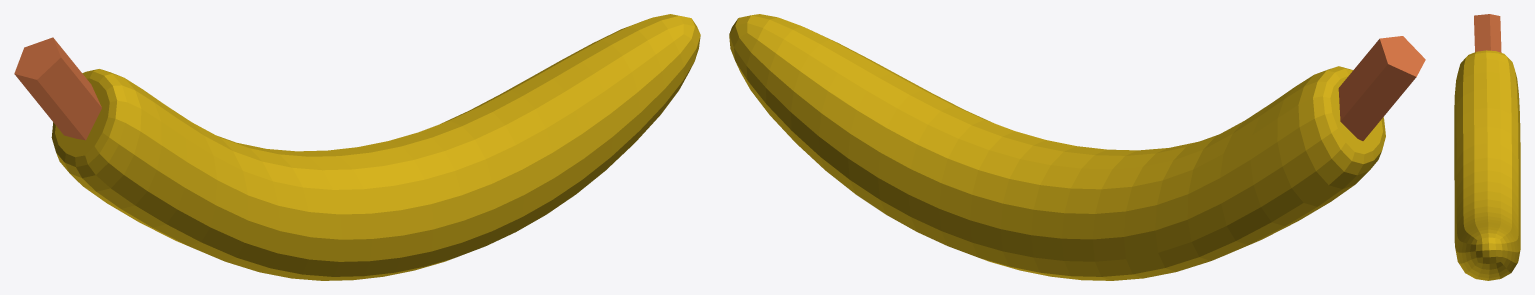
Rendered from banana.fbx.
3 views of the same model, side by side, from view 1: azimuth 30°, elevation 25°; view 2: azimuth 150°, elevation 25°; view 3: azimuth 270°, elevation 25° (orthographic). The views are drawn at different scales.
Parts seen in each view (by area): view 1: banana, Stem; view 2: banana, Stem; view 3: banana, Stem.
Part boxes in pixels (x1,y1,x2,y2): banana: (51,14,700,280); Stem: (14,37,101,140); banana: (729,14,1385,280); Stem: (1338,36,1425,140); banana: (1454,50,1520,280); Stem: (1474,14,1501,52).
Bounding box in the file's own units: 223 × 97.35 × 36.84.
